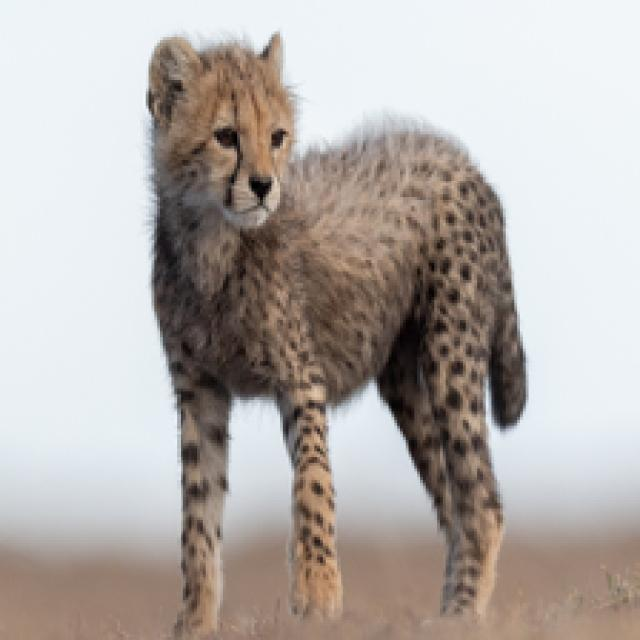cheetah: (121, 19, 585, 624)
